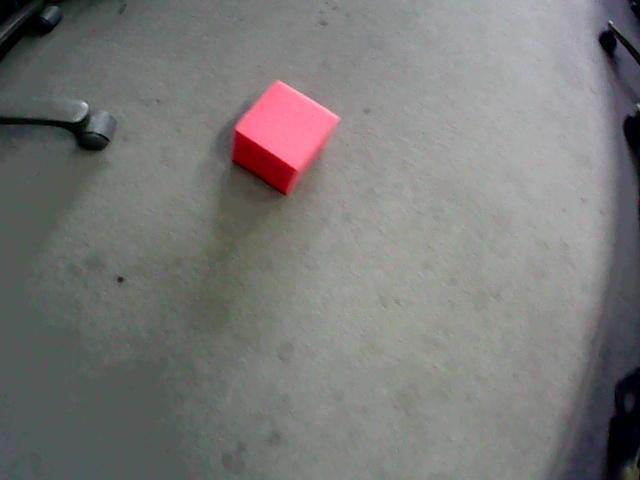red_block: (232, 81, 339, 193)
